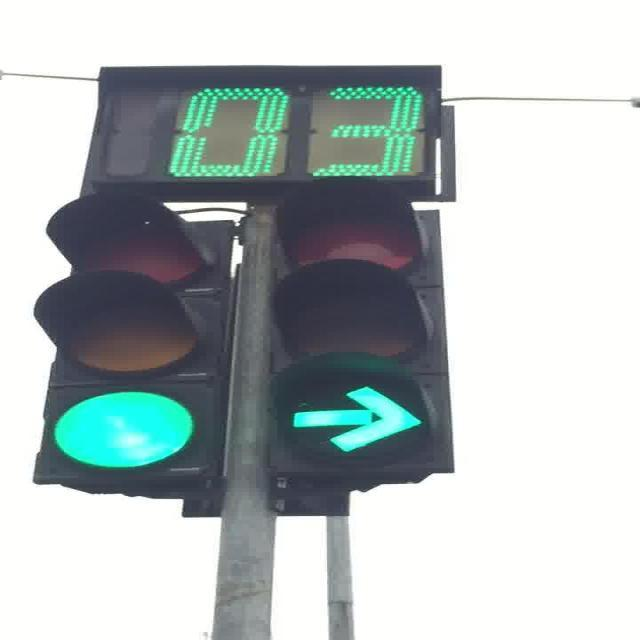green_light: (31, 190, 230, 484), (262, 180, 454, 475)
